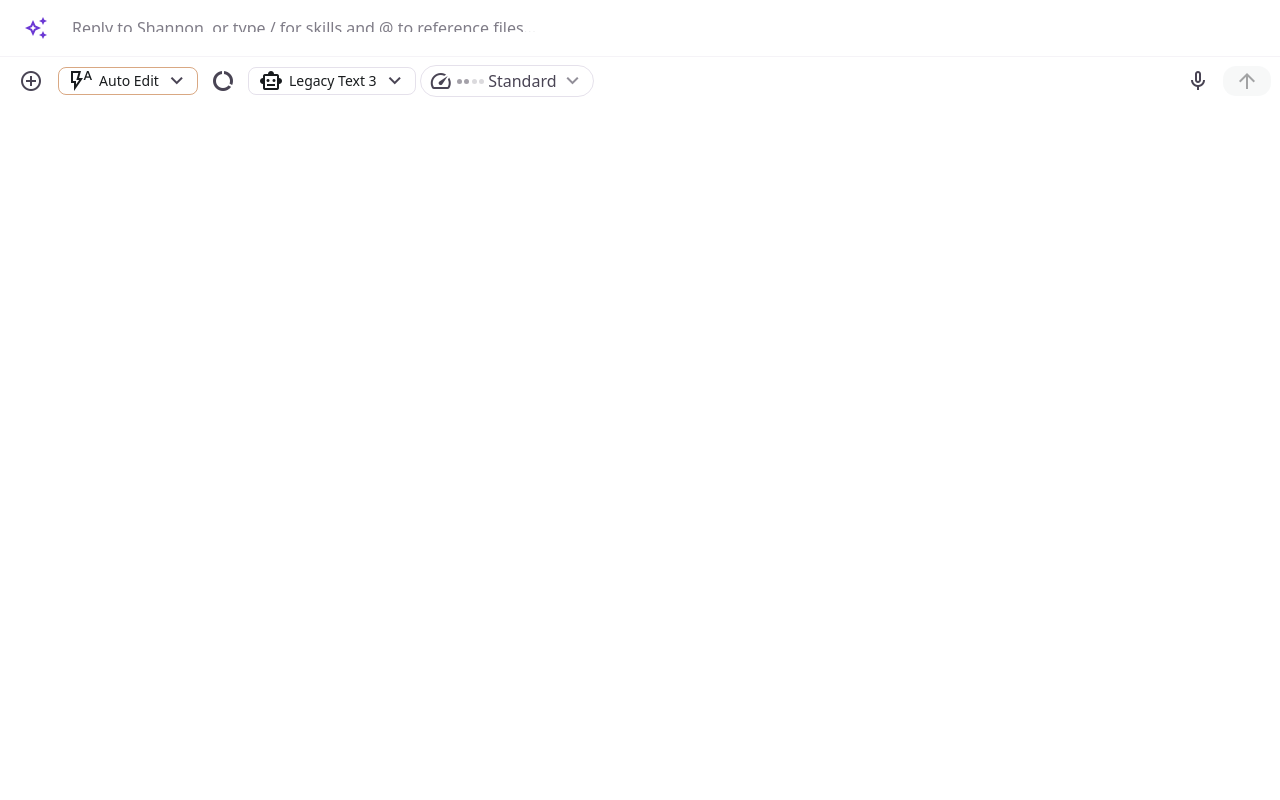
Test: ChatInput effort sub-tier (S3-5) › the gauge menu carries the honest not-applicable note for a non-reasoning model
The width and height of the screenshot is (1280, 800).
Click the button with test id "effort-gauge".
click(507, 81)  # box [420,65,594,97]
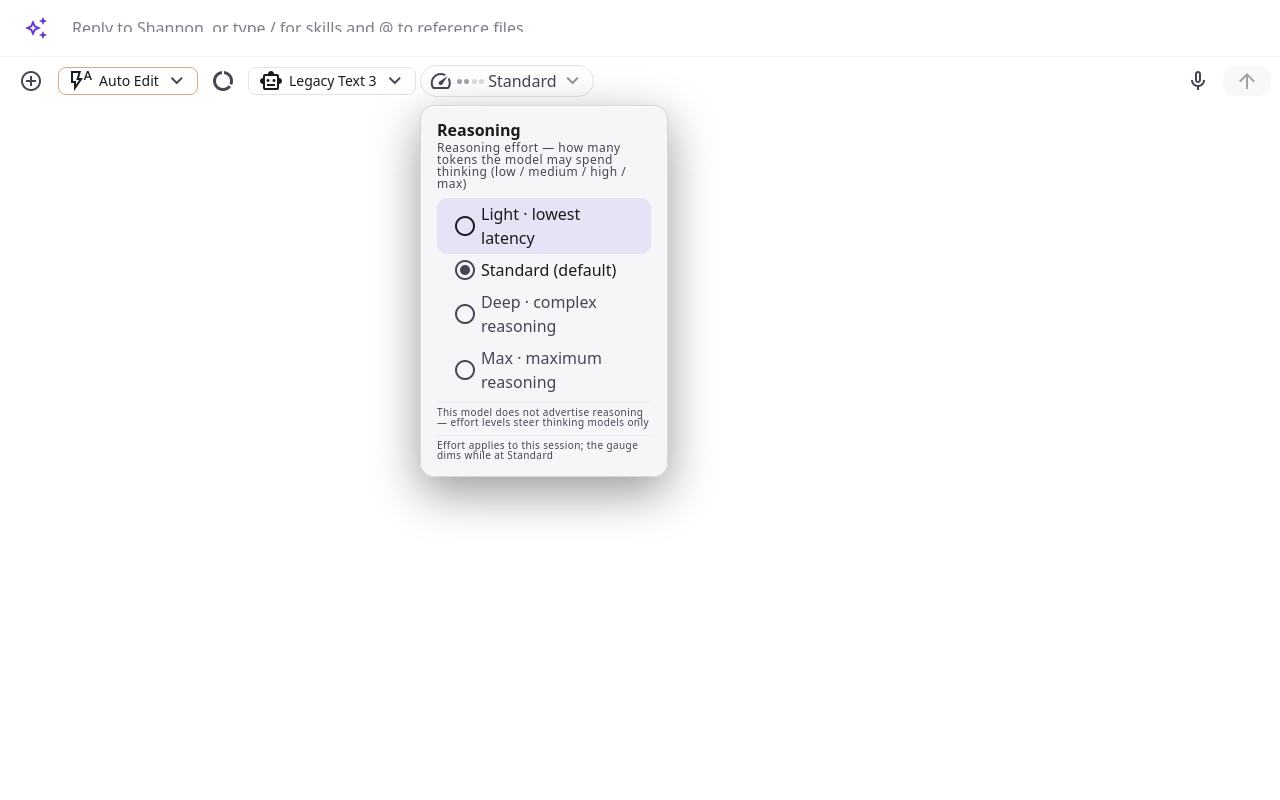
Check: the text with test id "effort-gauge-not-applicable" is shown, box [437,402,651,427]
Check: the menu item with test id "effort-gauge-option-high" is shown, box [453,291,597,337]
Check: the text with test id "effort-gauge-note" is shown, box [437,435,651,460]
